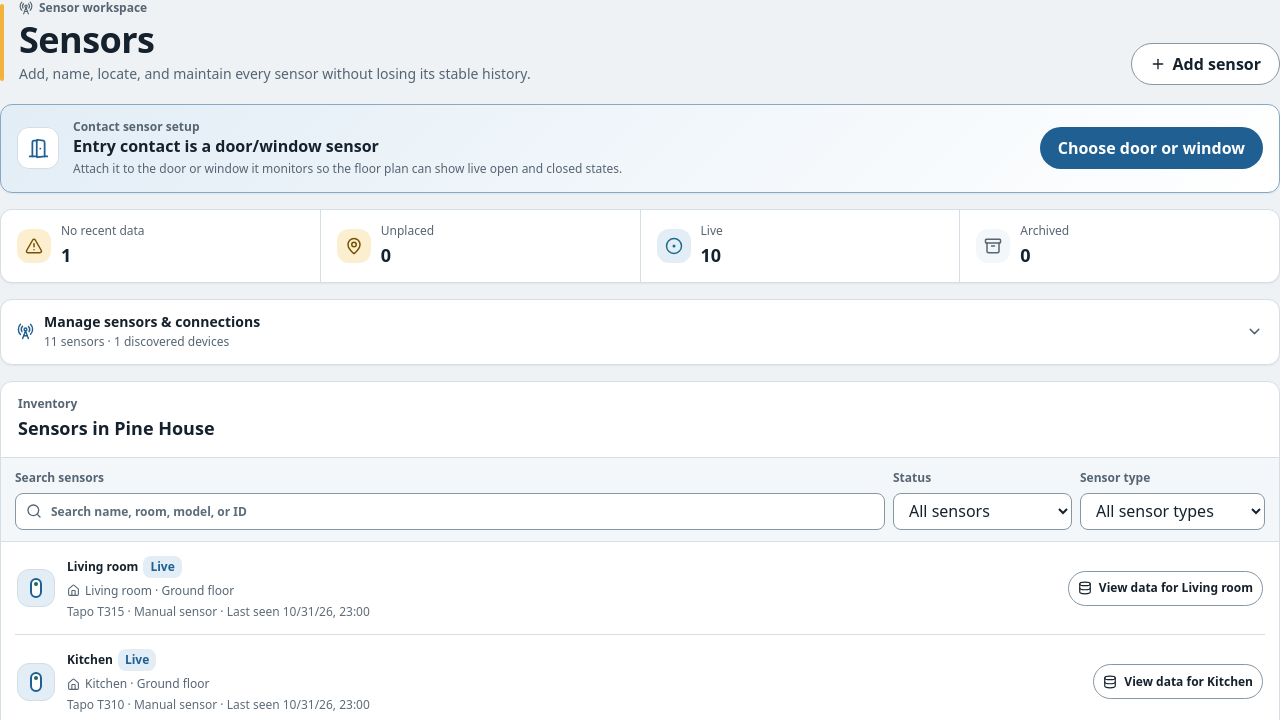
Test case: sensor onboarding and management › recognizes a T110 and attaches it to a chosen opening on the 2D plan
This screenshot has width=1280, height=720.
Expected: the heading "Entry contact is a door/window sensor" is shown, 73,136 -> 379,158
Click the button "Choose door or window".
click(1151, 148)  # box 1040,127 -> 1263,169
(page scrolled)
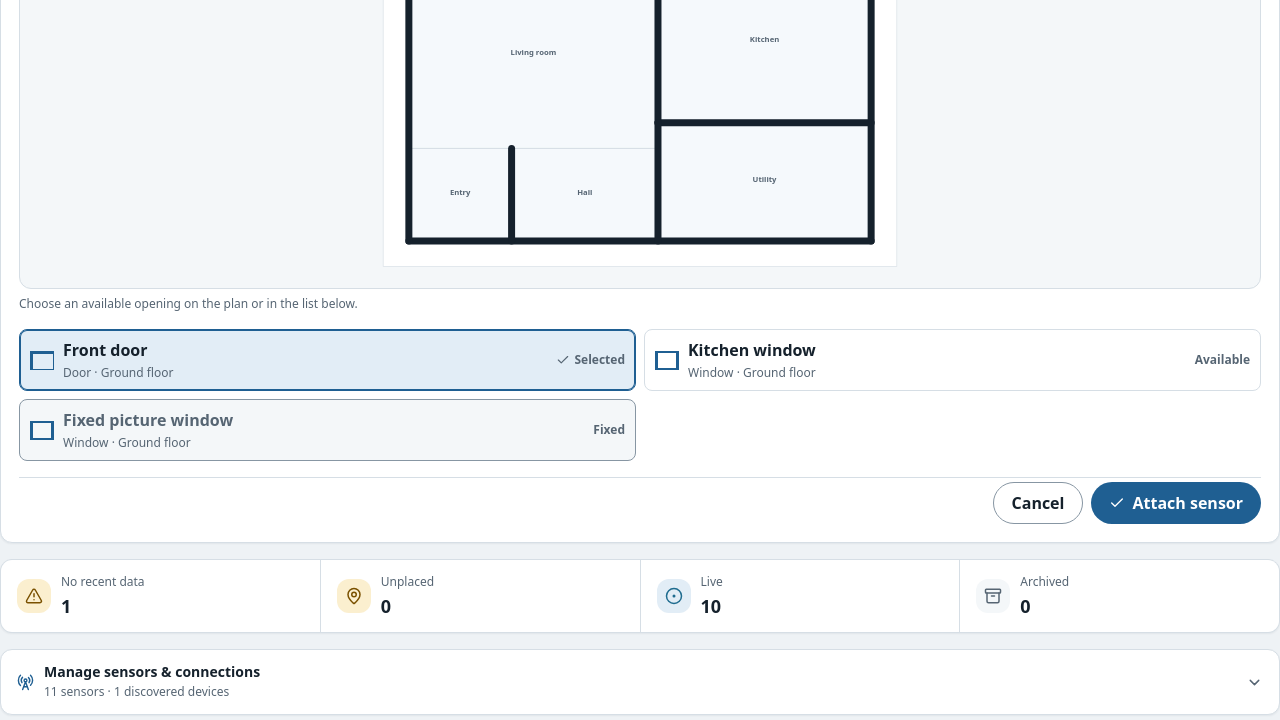
Now the button "Fixed picture window Window · Ground floor Fixed" is disabled, box 19,399 -> 636,461
Click the button "Kitchen window Window · Ground floor Available".
click(752, 350)  # box 644,329 -> 1261,391
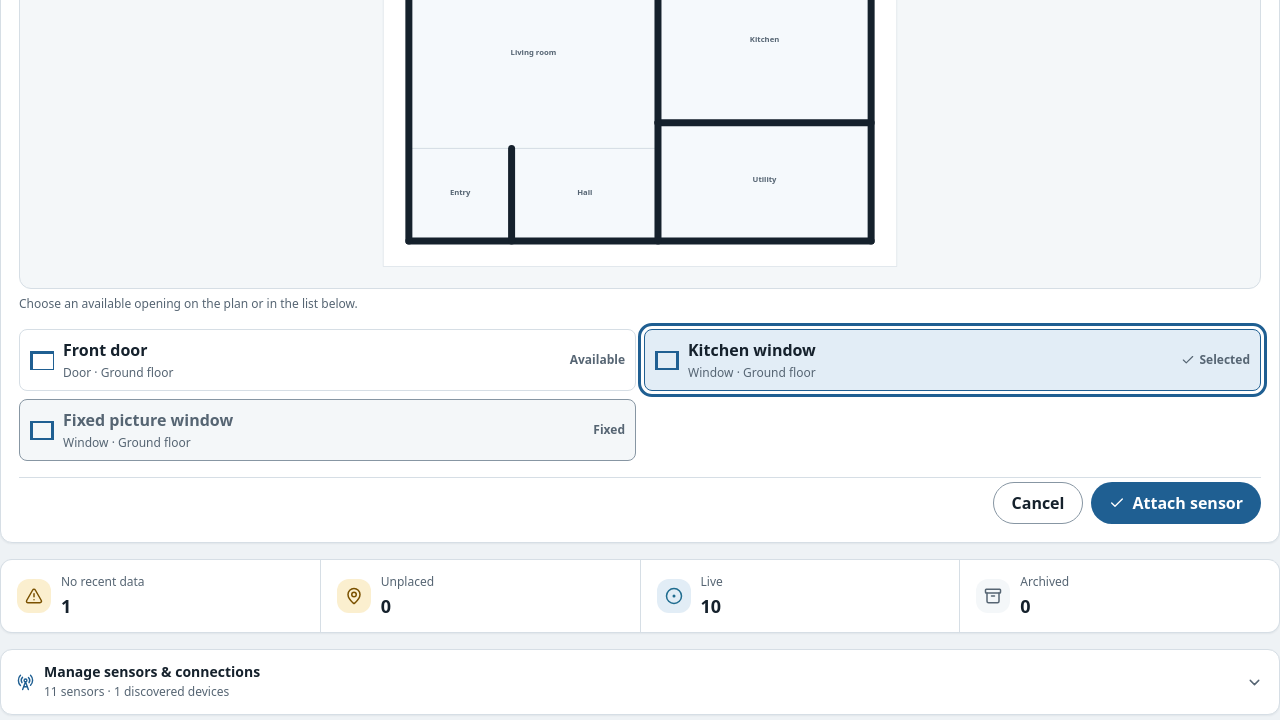
Click the button "Attach sensor".
click(1176, 503)  # box 1092,482 -> 1261,524
(page scrolled)
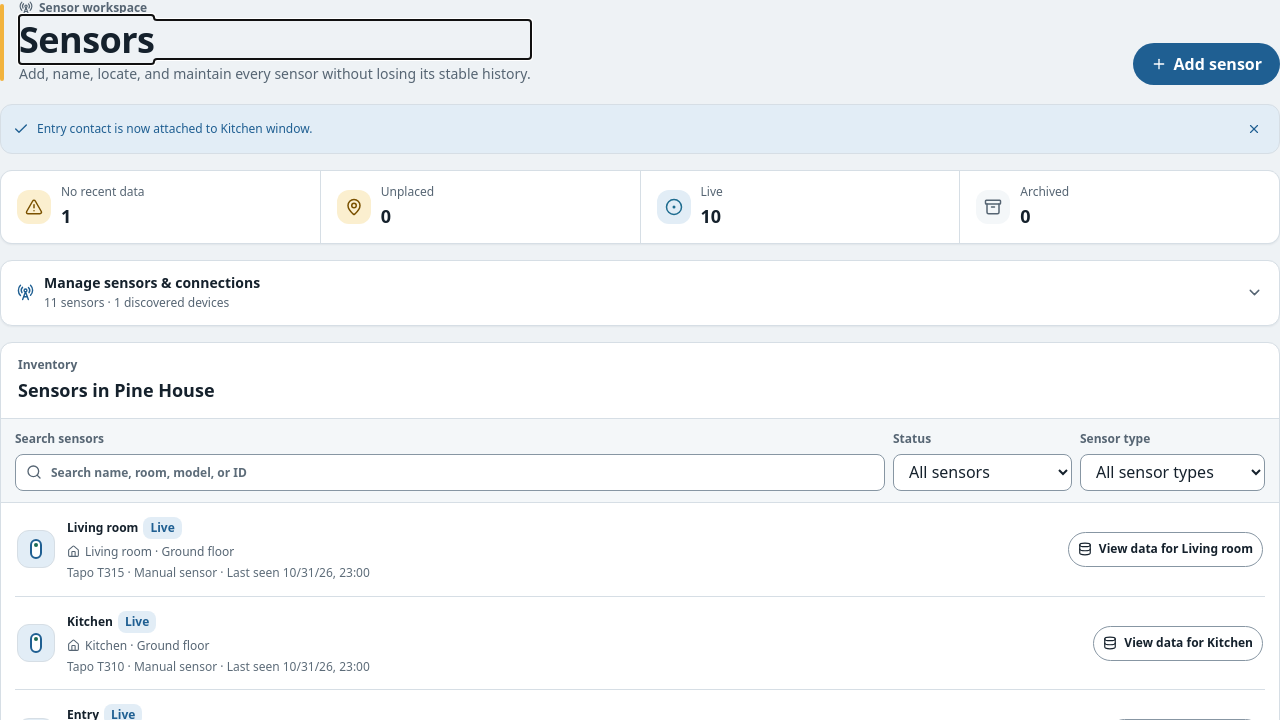
Now the text "Entry contact is now attached to Kitchen window." is shown, box 0,104 -> 1279,154
